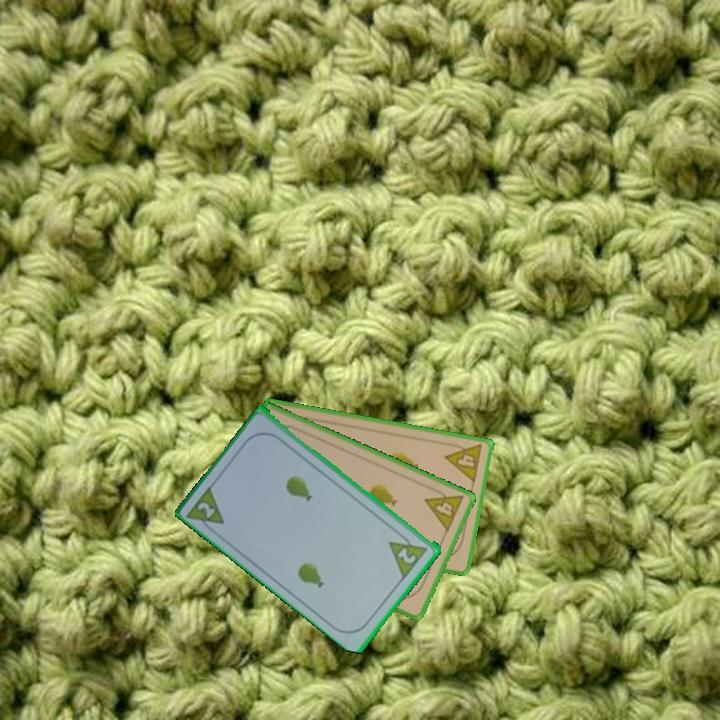2p: (394, 544, 419, 567), (194, 498, 218, 521)
4p: (421, 483, 467, 535), (442, 439, 485, 485)
